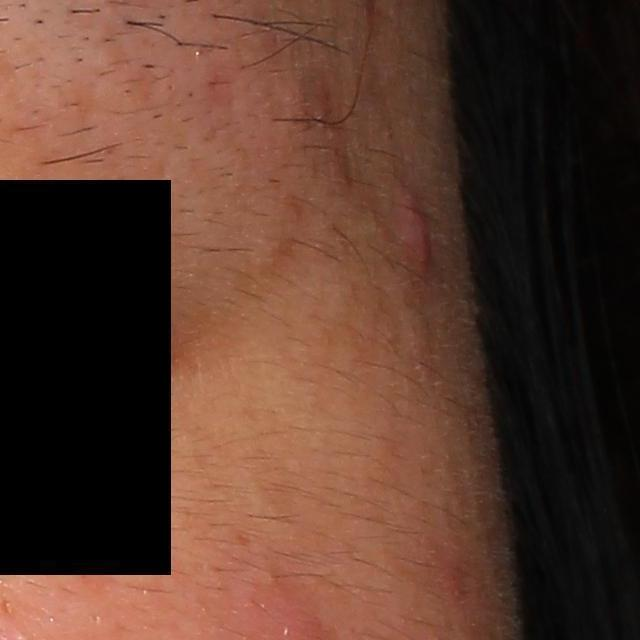papule: (397, 182, 436, 279)
